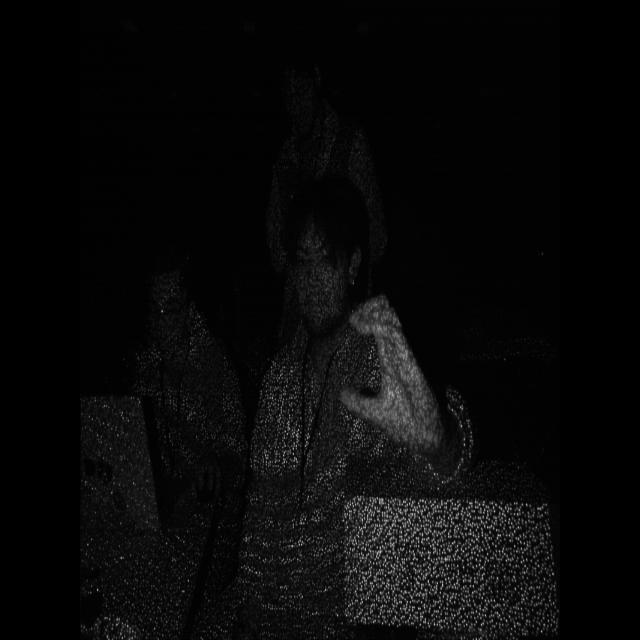C: (333, 281, 457, 475)
